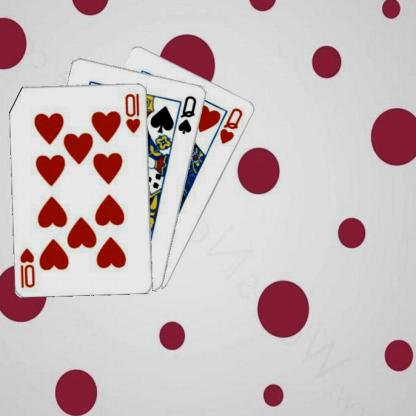10H: (125, 90, 144, 134), (20, 245, 38, 289)
QH: (219, 105, 246, 145)
QS: (178, 93, 200, 135)
